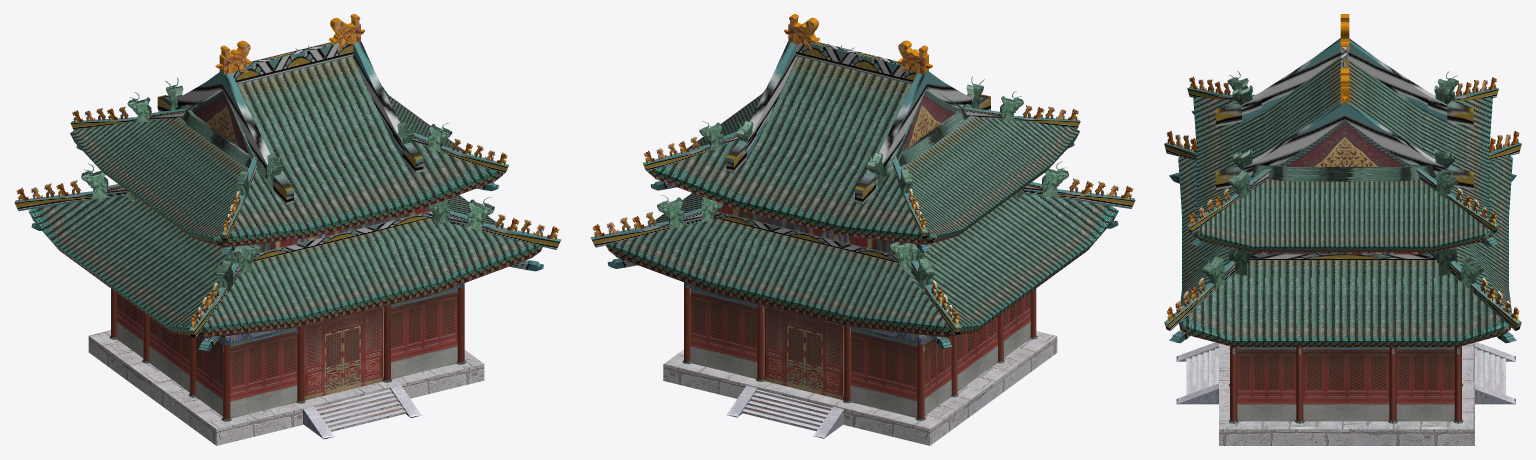
Rendered from tingzi.fbx.
The picture shows the model from 3 angles, left to right: view 1: azimuth 30°, elevation 25°; view 2: azimuth 150°, elevation 25°; view 3: azimuth 270°, elevation 25°; orthographic projection.
Parts seen in each view (by area): view 1: ta_10, ta_04, ta_14, ta_07, ta_03, ta_15, ta_02, ta_05, ta_06, ta_12, ta_09, ta_18 (+3 smaller); view 2: ta_10, ta_04, ta_14, ta_07, ta_03, ta_15, ta_02, ta_05, ta_06, ta_08, ta_12, ta_09 (+3 smaller); view 3: ta_10, ta_04, ta_14, ta_07, ta_15, ta_05, ta_12, ta_09, ta_02, ta_18, ta_13, ta_06 (+3 smaller).
Boxes of the visible parts, box(x1,y1,x2,y2) form: ta_10: box(28, 56, 542, 338); ta_04: box(116, 288, 457, 418); ta_14: box(14, 41, 561, 337); ta_07: box(88, 330, 484, 445); ta_03: box(304, 306, 383, 400); ta_15: box(81, 45, 494, 293); ta_02: box(111, 283, 464, 419); ta_05: box(303, 384, 421, 439); ta_06: box(215, 14, 364, 74); ta_12: box(192, 90, 248, 153); ta_09: box(175, 105, 267, 178); ta_18: box(16, 108, 559, 328); ta_10: box(606, 56, 1118, 337); ta_04: box(690, 288, 1030, 417); ta_14: box(590, 41, 1135, 335); ta_07: box(663, 331, 1057, 445); ta_03: box(764, 305, 844, 399); ta_15: box(657, 45, 1068, 290); ta_02: box(684, 282, 1036, 418); ta_05: box(726, 385, 843, 438); ta_06: box(784, 14, 932, 74); ta_08: box(718, 205, 903, 254); ta_12: box(902, 90, 957, 151); ta_09: box(883, 104, 973, 177); ta_10: box(1178, 56, 1512, 346); ta_04: box(1237, 347, 1454, 421); ta_14: box(1164, 38, 1521, 330); ta_07: box(1219, 342, 1474, 445); ta_15: box(1202, 71, 1483, 290); ta_05: box(1176, 342, 1515, 404); ta_12: box(1272, 120, 1417, 166); ta_09: box(1251, 165, 1436, 181); ta_02: box(1230, 346, 1461, 421); ta_18: box(1167, 76, 1519, 321); ta_13: box(1183, 79, 1502, 306); ta_06: box(1340, 14, 1349, 104).
Bounding box in the file's own units: 609 × 524 × 506.
16 materials, 16 textured.
